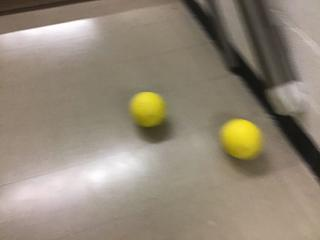power_cell: (213, 114, 261, 161), (124, 88, 168, 126)
